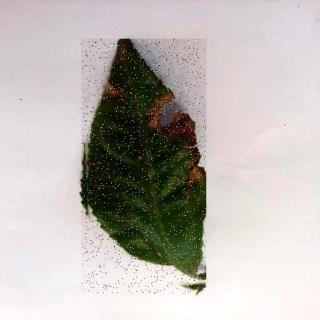Algal Leaf: (83, 40, 208, 295)
